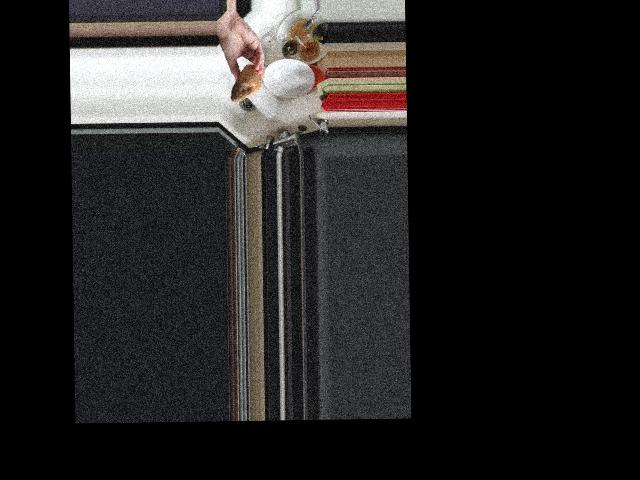sweet_potato: (227, 64, 262, 102)
